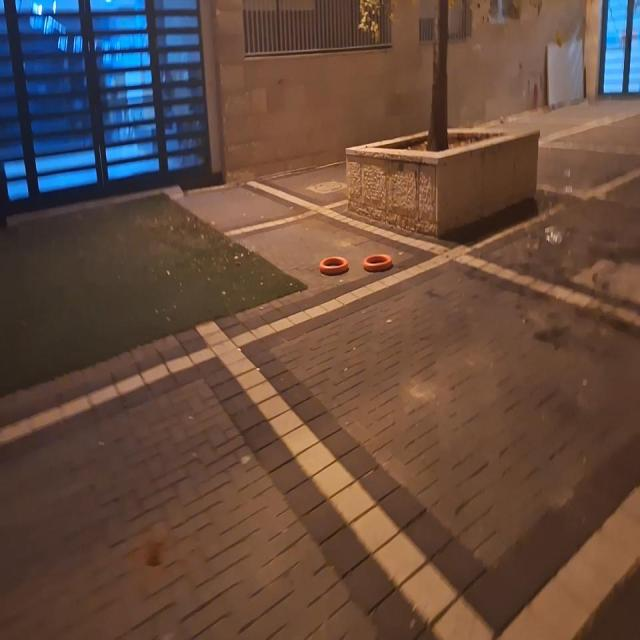note: (319, 257, 349, 275), (363, 254, 392, 272)
